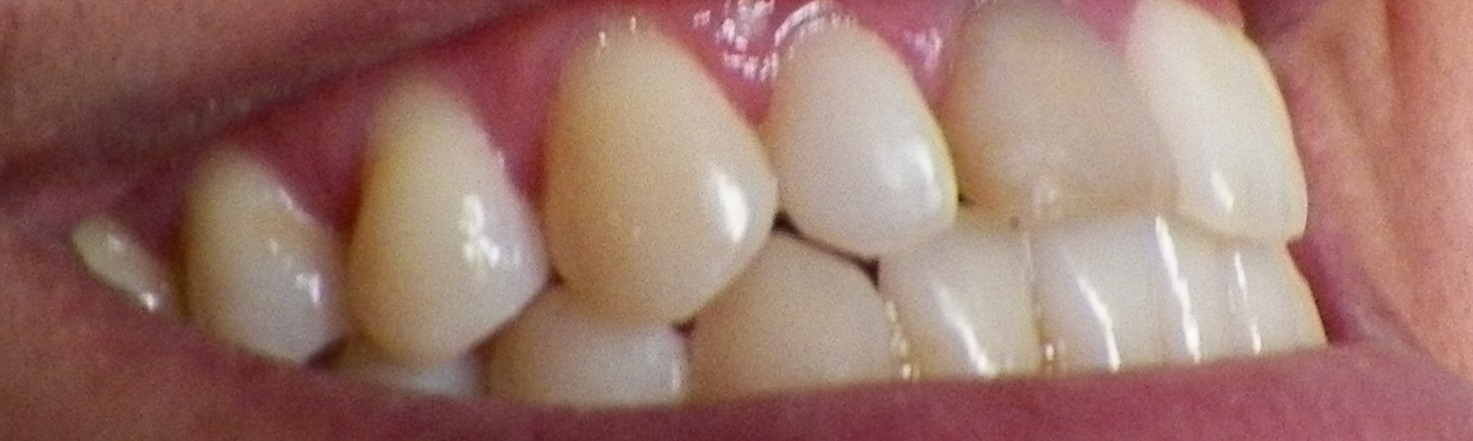boca: (79, 14, 1355, 404)
